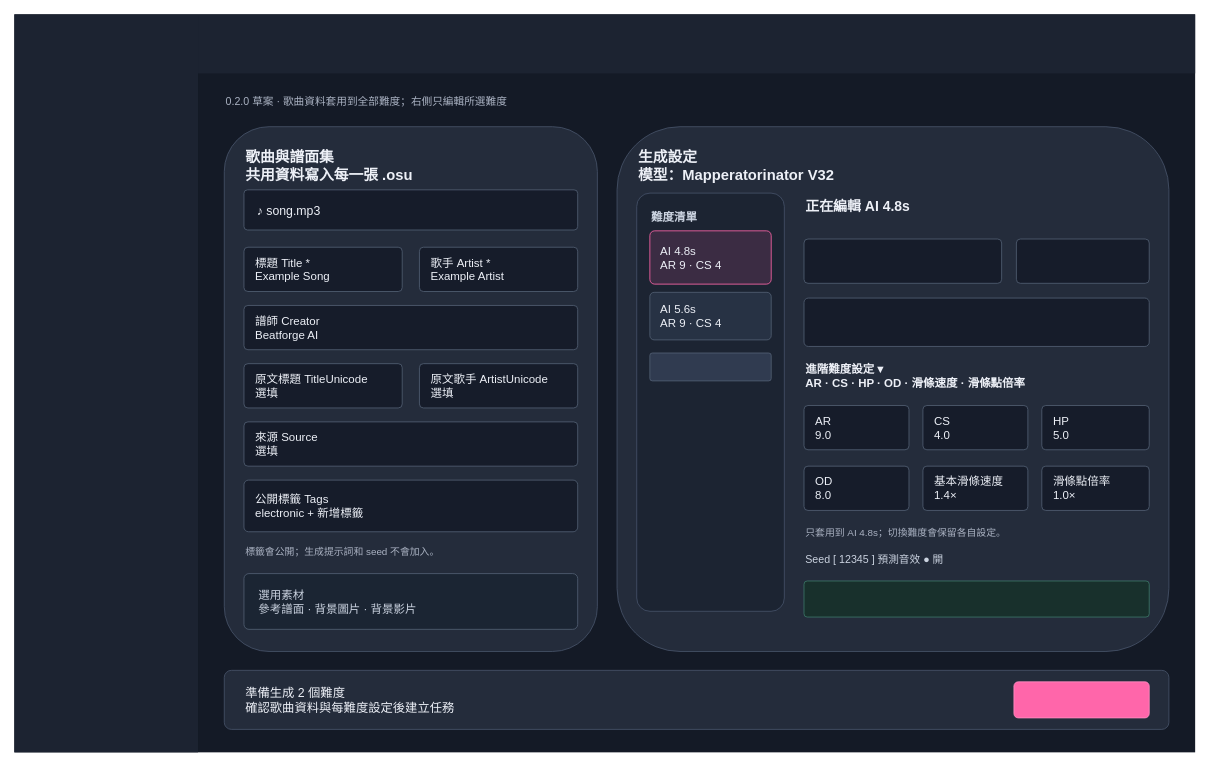
Image size: 1209x766. Some labels were removed from this diagram. The centre of each missing label's shape, as x and y in pixels:
"+ 新增難度" goes at point 710,366.
"Beatforge 生成 / Generate 任務 / Jobs 歷史 / History 模型 / Models 設定 / Settings" goes at point 106,383.
"建立譜面集 V32 · osu!standard · Local" goes at point 696,43.
"生成 2 個難度" goes at point 1081,699.
"目標星數 4.8★" goes at point 1082,260.
"送出前摘要：2 個難度與共用 metadata" goes at point 976,598.
"難度名稱 AI 4.8s" goes at point 902,260.
"風格提示詞 正向 / 排除標籤…" goes at point 976,321.
